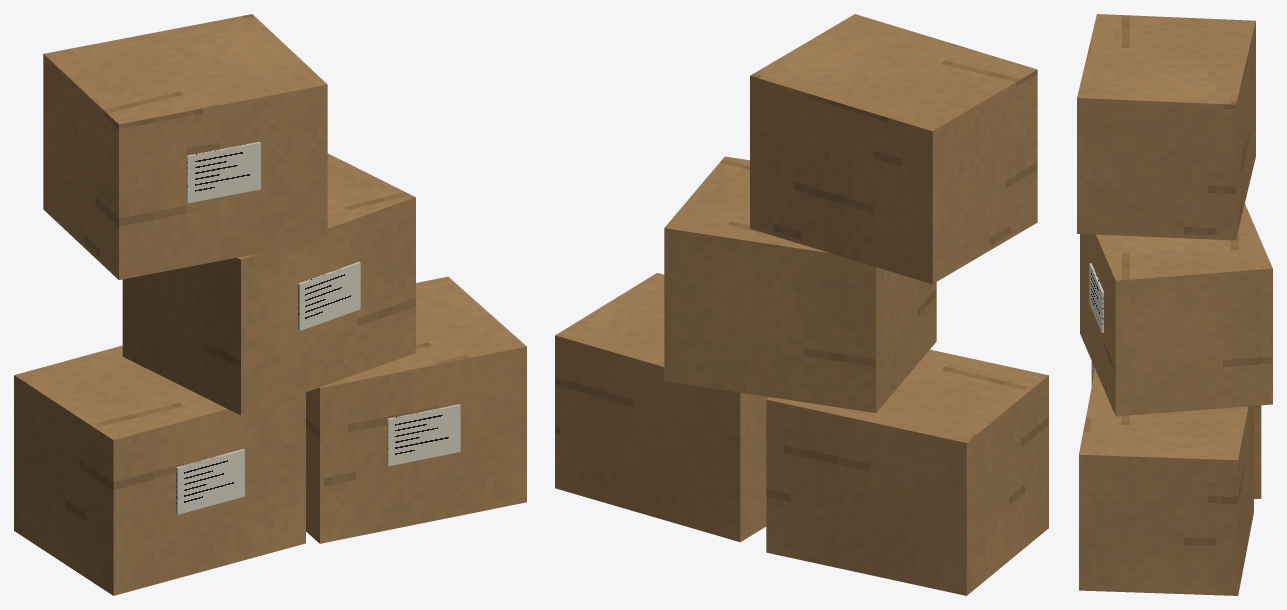
The model's file is tfg_filing_boxes.glb.
3 views of the same model, side by side, from view 1: azimuth 30°, elevation 25°; view 2: azimuth 150°, elevation 25°; view 3: azimuth 270°, elevation 25° (orthographic). The views are drawn at different scales.
Visible parts, largest first — view 1: tfg_filing_boxes; view 2: tfg_filing_boxes; view 3: tfg_filing_boxes.
Boxes of the visible parts, x1,y1,x2,y2 form: tfg_filing_boxes: (14,14,526,595); tfg_filing_boxes: (555,14,1048,595); tfg_filing_boxes: (1077,14,1272,595).
Size of the model in its own units: 0.8599 by 0.9 by 0.3924.
Materials: 2 (2 with a texture image).
